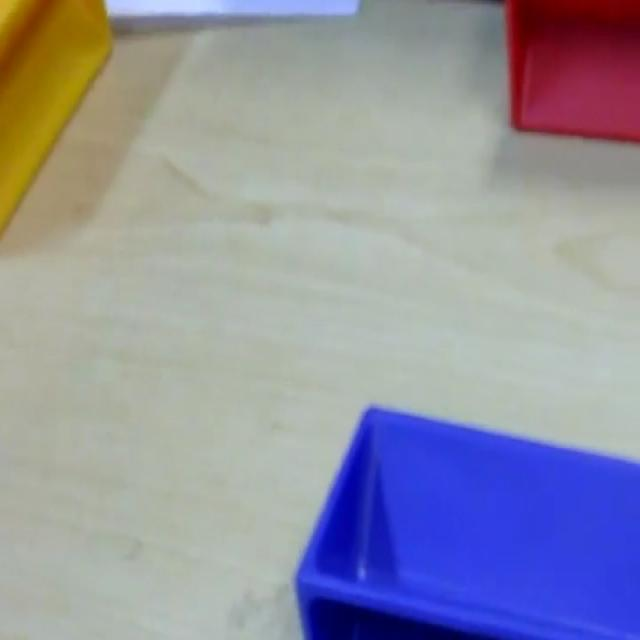blue_block: (294, 400, 638, 636)
red_block: (504, 0, 638, 143)
yellow_block: (0, 0, 113, 236)
